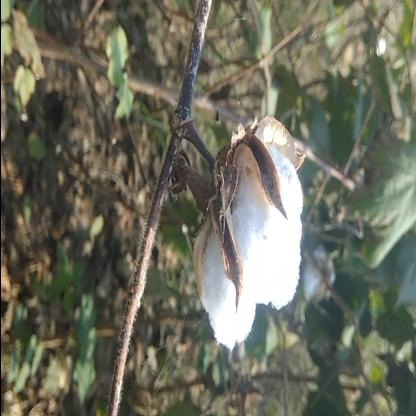cotton_ready: (159, 105, 312, 351)
